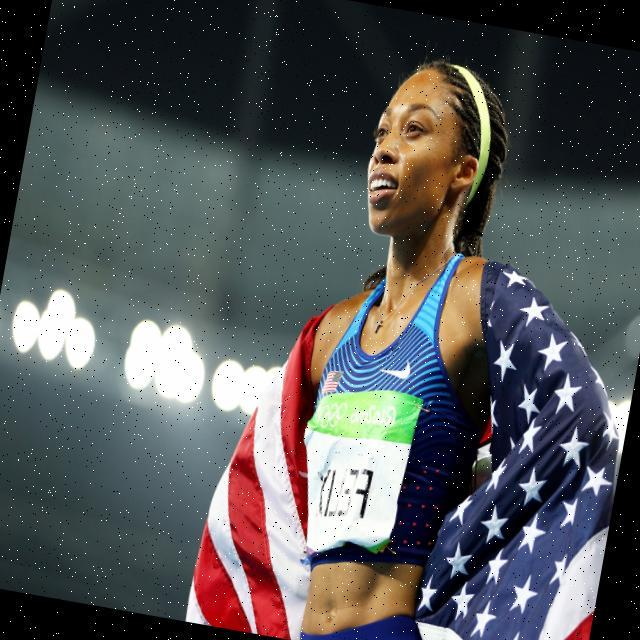Nike: (374, 349, 418, 390)
